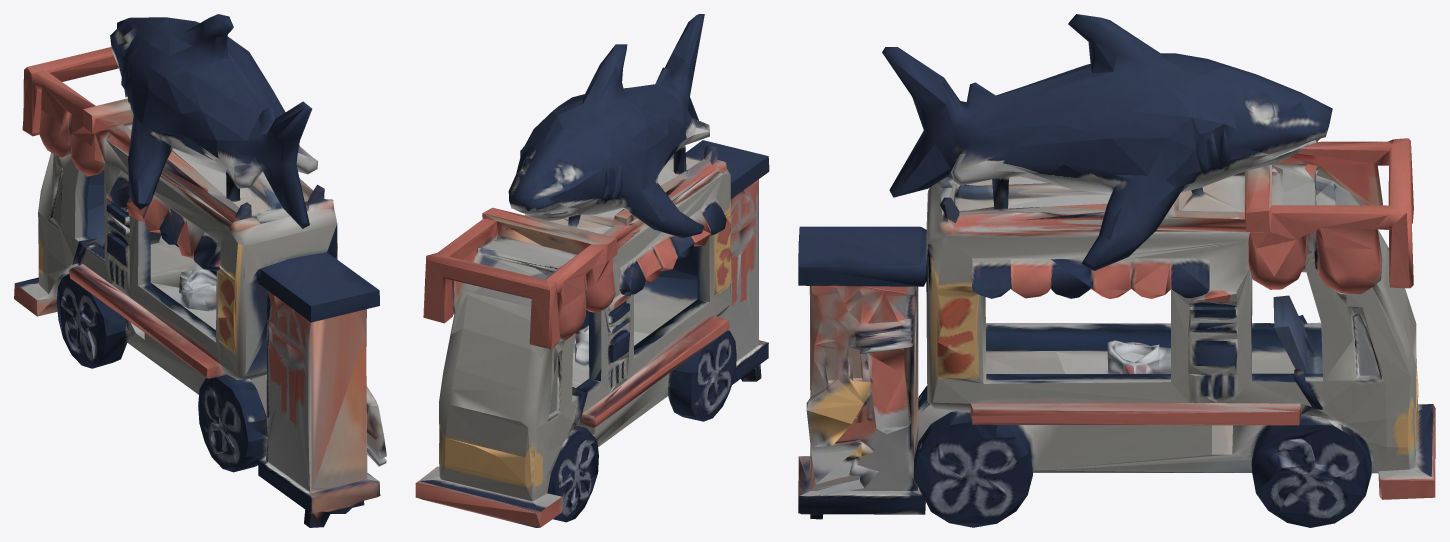
File: 游客鲨鱼车.fbx
3 views of the same model, side by side, from view 1: azimuth 30°, elevation 25°; view 2: azimuth 150°, elevation 25°; view 3: azimuth 270°, elevation 25° (orthographic). The views are drawn at different scales.
Parts seen in each view (by area): view 1: tripo_node_eab37a10.001; view 2: tripo_node_eab37a10.001; view 3: tripo_node_eab37a10.001.
Part boxes in pixels (x1,y1,x2,y2): tripo_node_eab37a10.001: (14,14,386,527); tripo_node_eab37a10.001: (415,14,769,527); tripo_node_eab37a10.001: (798,14,1435,527).
Size of the model in its own units: 12.83 by 29.29 by 33.6.
